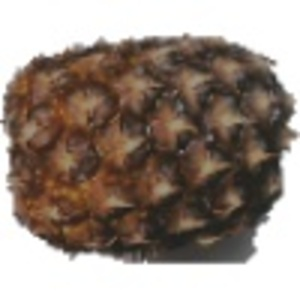abacaxi: (2, 36, 291, 249)
